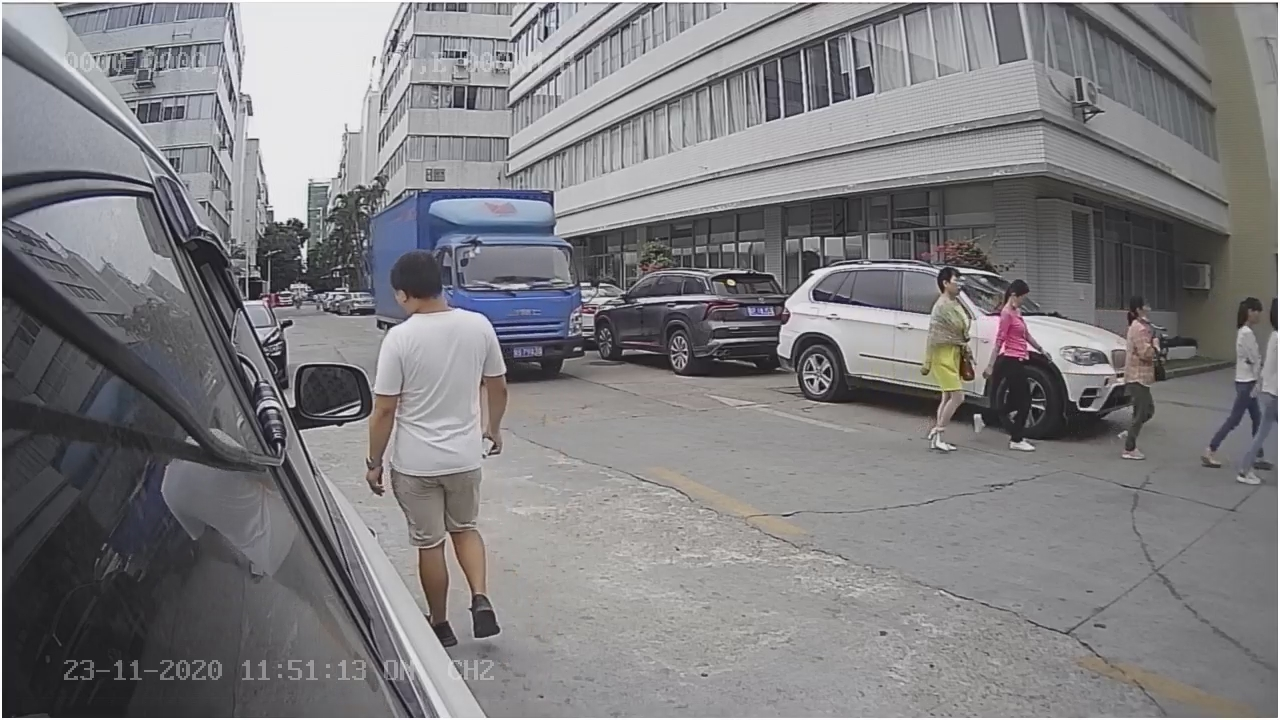person: (371, 251, 519, 506), (911, 254, 983, 458), (1112, 284, 1164, 462)
